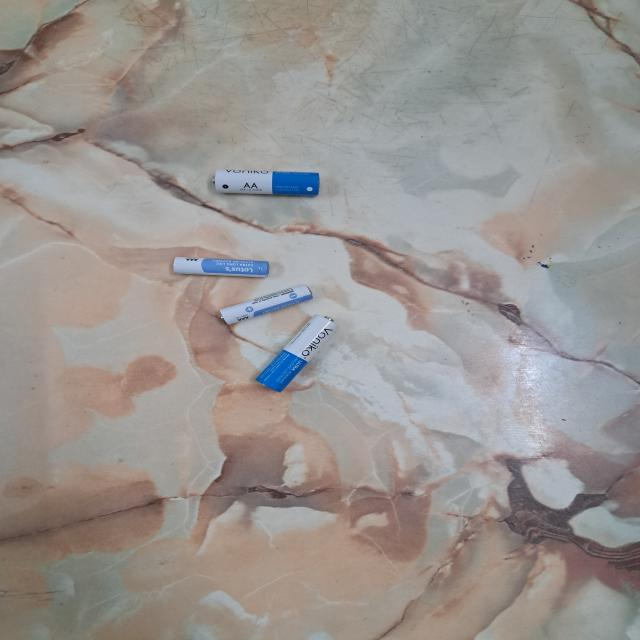battery: (253, 314, 339, 393), (217, 283, 314, 327), (211, 167, 322, 198), (172, 256, 271, 279)
